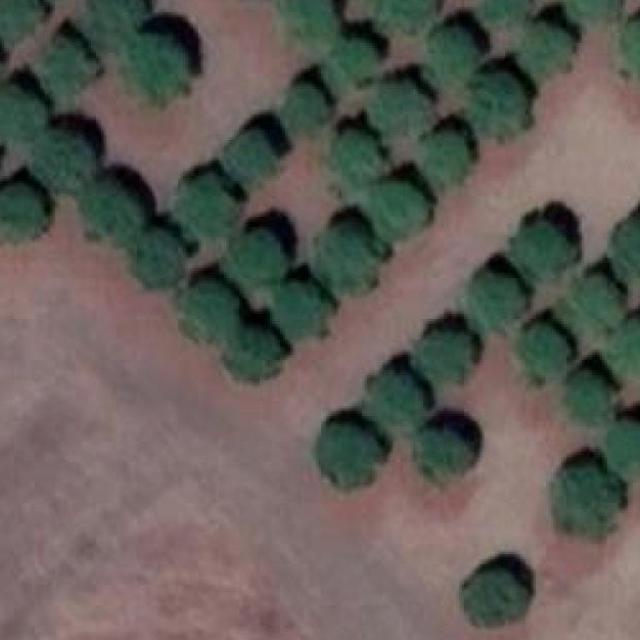Tree: (558, 445, 630, 542), (310, 409, 392, 494), (318, 212, 389, 298), (413, 406, 483, 491), (410, 309, 485, 388), (509, 202, 584, 281), (30, 128, 101, 210), (466, 252, 533, 338), (461, 69, 536, 145), (78, 179, 149, 250), (124, 31, 190, 107), (270, 273, 339, 339), (180, 275, 241, 345), (221, 322, 287, 386), (127, 222, 188, 291), (362, 365, 431, 426), (518, 314, 574, 388), (420, 125, 480, 194), (367, 74, 426, 143), (374, 181, 436, 245), (37, 33, 96, 97), (229, 227, 285, 293), (562, 363, 618, 427), (0, 81, 50, 150), (572, 270, 622, 339), (0, 179, 50, 245), (466, 566, 520, 626), (277, 84, 333, 140), (336, 128, 386, 189), (185, 173, 236, 232), (229, 130, 278, 189), (328, 38, 377, 92), (428, 24, 479, 74), (83, 0, 142, 43), (374, 0, 436, 33), (524, 26, 568, 72), (563, 0, 625, 31), (615, 318, 640, 393), (288, 0, 336, 38), (0, 0, 45, 38), (484, 0, 530, 31)
